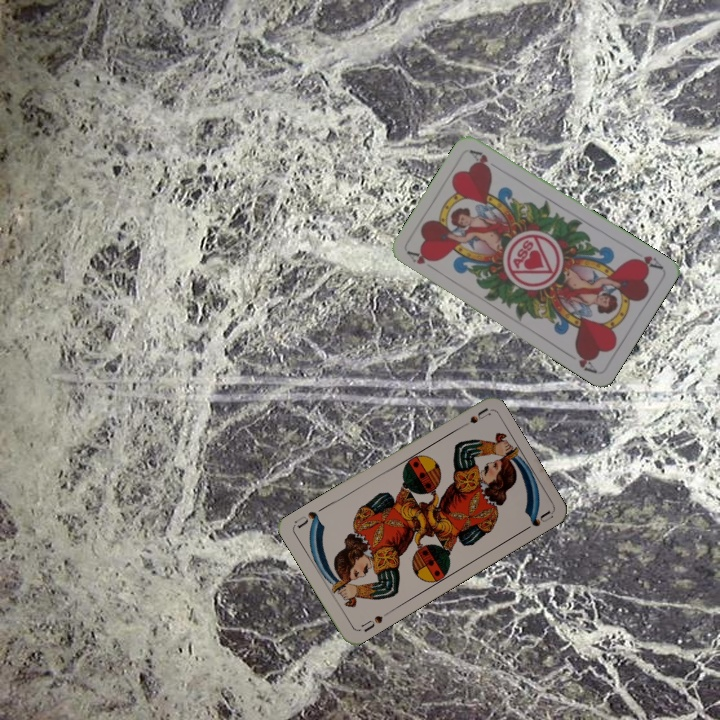HA: (404, 247, 440, 275), (628, 245, 665, 272)
SU: (453, 404, 492, 432), (355, 608, 392, 635)
